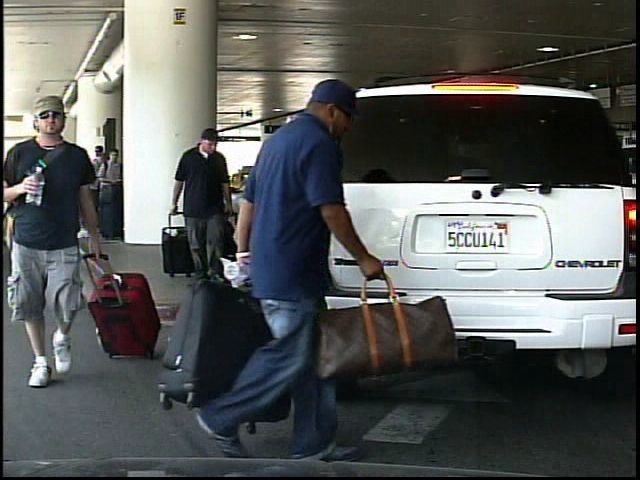person: (227, 76, 382, 468), (13, 98, 111, 395), (168, 129, 239, 281)
